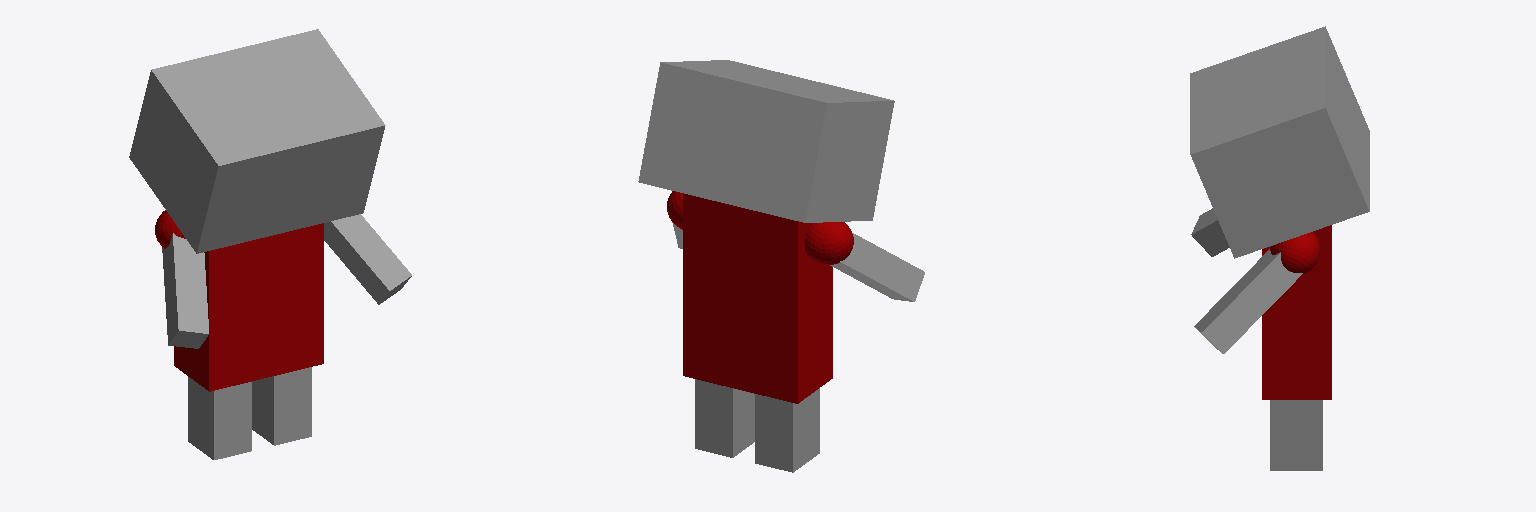
File: julia-rigged.obj
3 renders of one model, left to right at view 1: azimuth 30°, elevation 25°; view 2: azimuth 150°, elevation 25°; view 3: azimuth 270°, elevation 25°, orthographic.
Parts seen in each view (by area): view 1: Sphere.001; view 2: Sphere.001; view 3: Sphere.001.
Part boxes in pixels (left/top/right/bottom): Sphere.001: left=129, top=29, right=411, bottom=459; Sphere.001: left=638, top=60, right=924, bottom=472; Sphere.001: left=1190, top=26, right=1369, bottom=470.
Bounding box in the file's own units: 6.16 × 9.5 × 4.07.